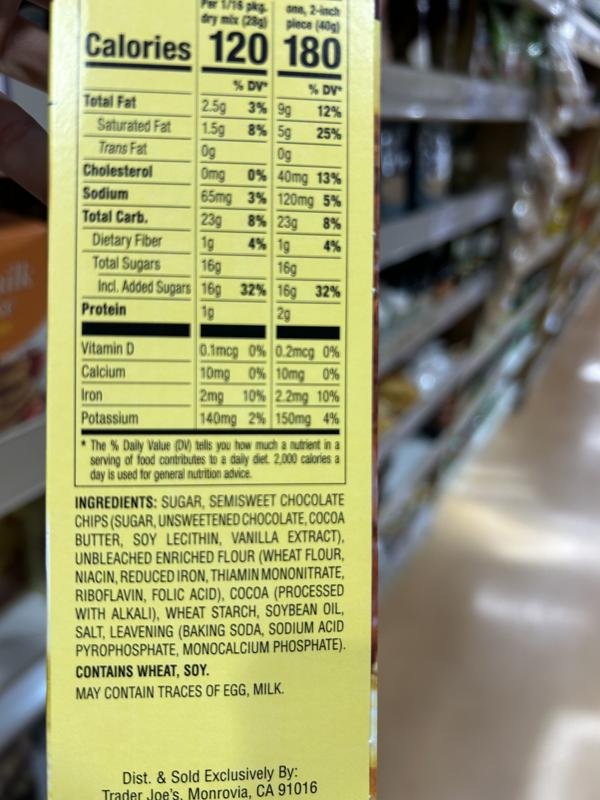ingredients: (73, 492, 344, 659)
